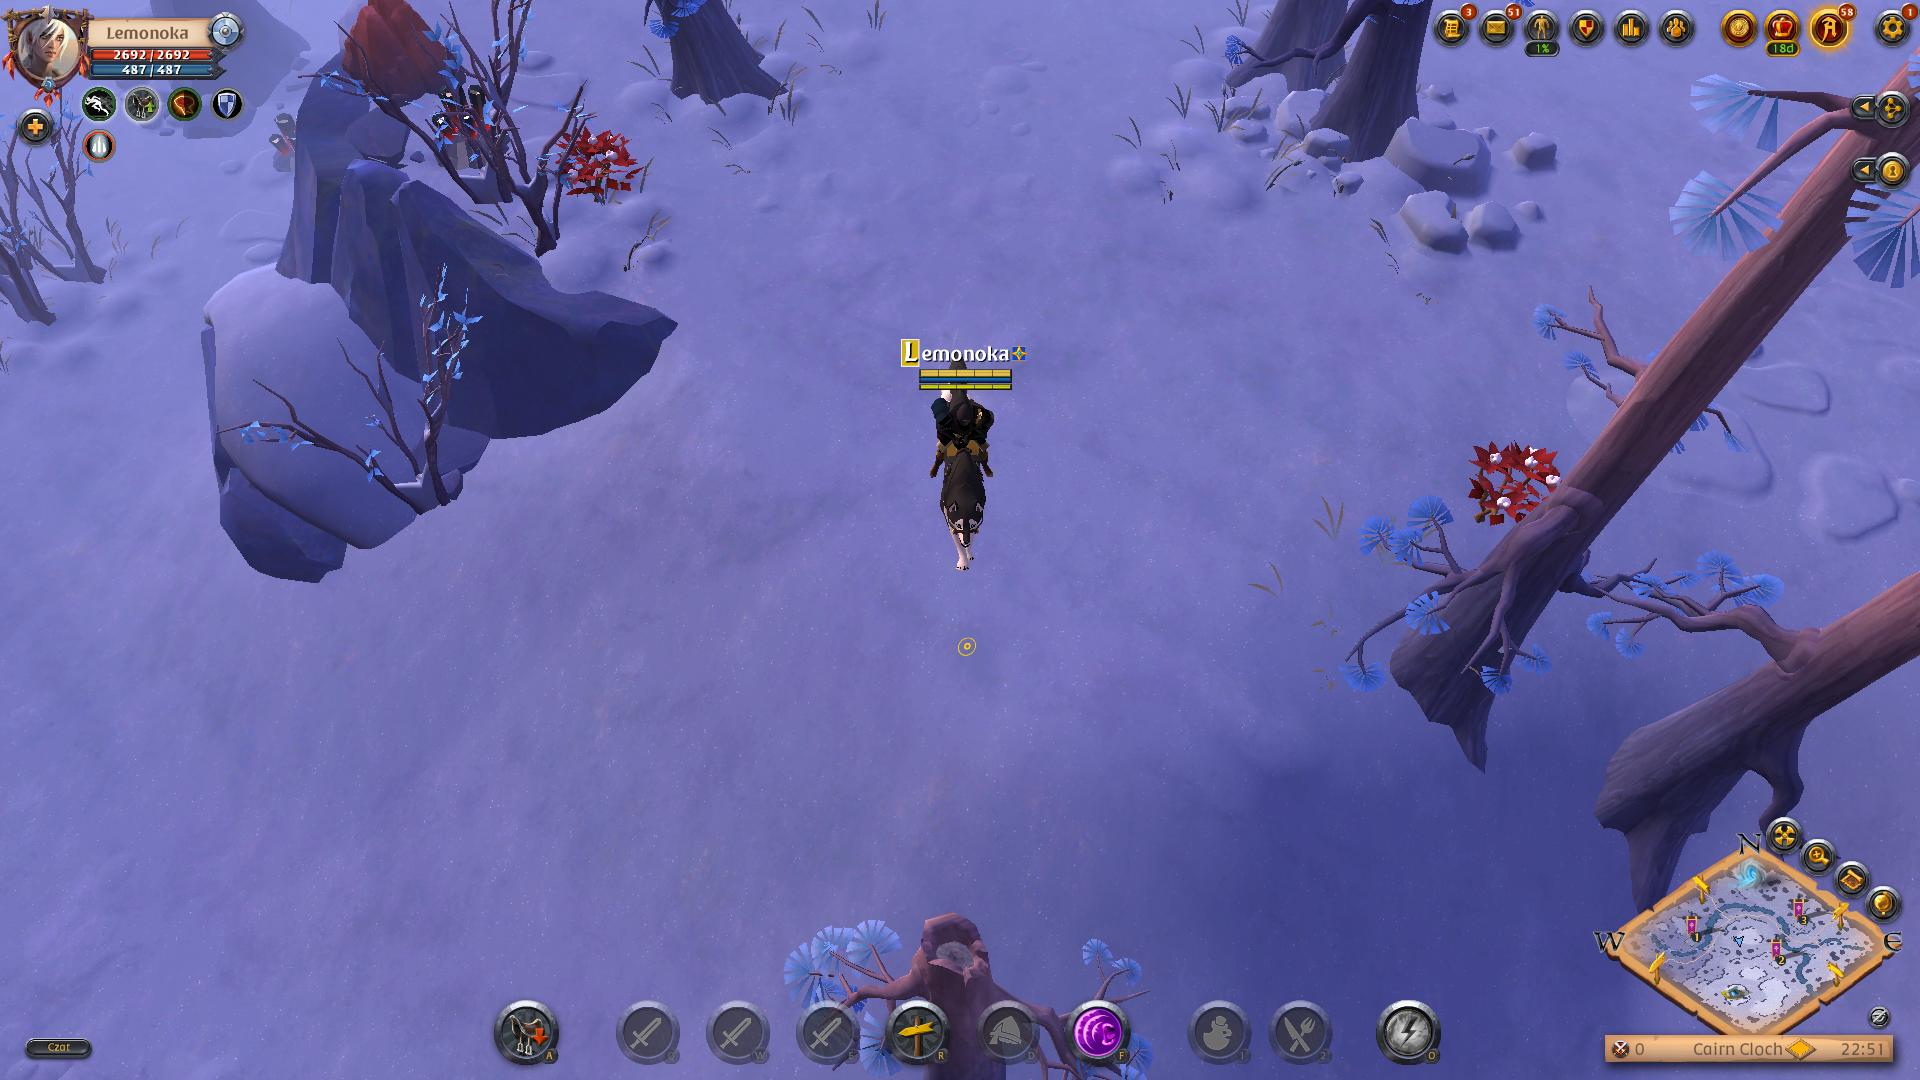fiber tier 5: (1468, 435, 1561, 531), (547, 116, 644, 207)
